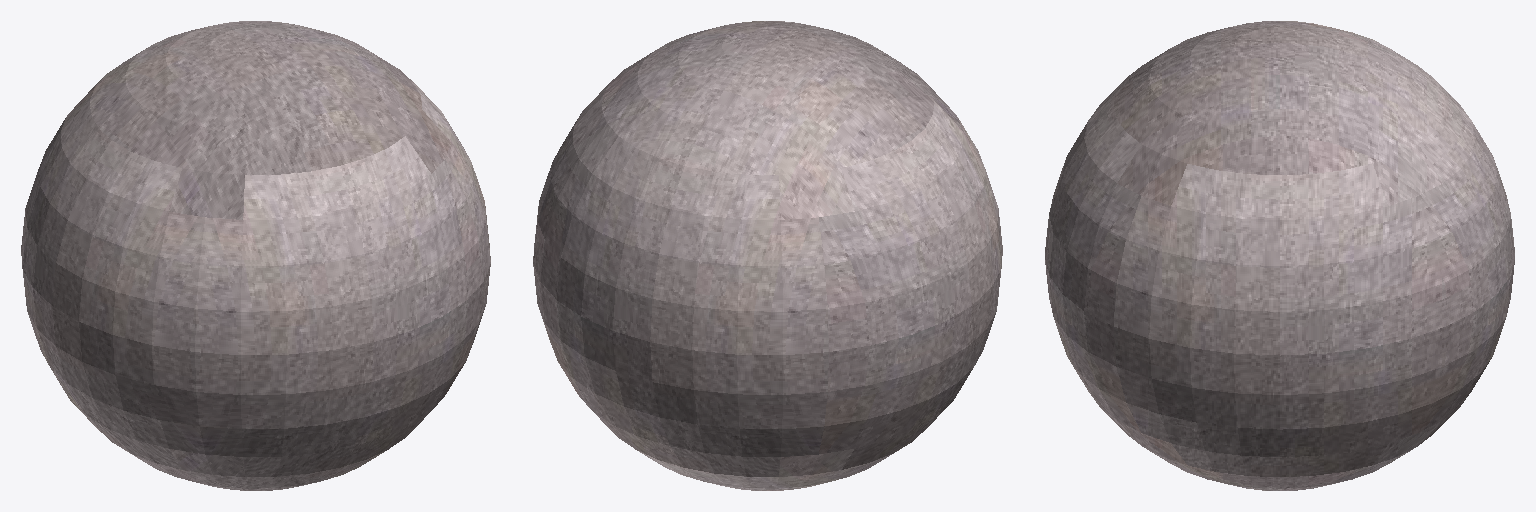
3 views of the same model, side by side, from view 1: azimuth 30°, elevation 25°; view 2: azimuth 150°, elevation 25°; view 3: azimuth 270°, elevation 25° (orthographic).
Parts seen in each view (by area): view 1: stone2_particle; view 2: stone2_particle; view 3: stone2_particle.
Part boxes in pixels (x1,y1,x2,y2): stone2_particle: (21,21,490,490); stone2_particle: (533,21,1002,490); stone2_particle: (1045,21,1514,490).
Bounding box in the file's own units: 2 × 2 × 2.
1 materials, 1 textured.